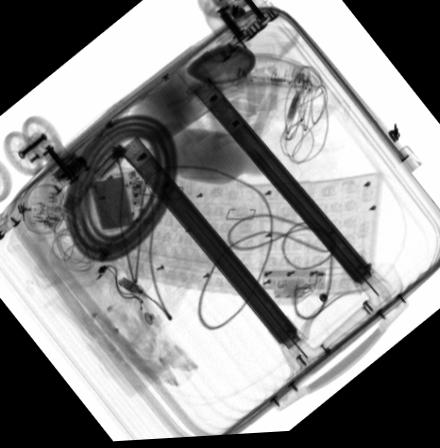Powerbank: (88, 170, 150, 233)
